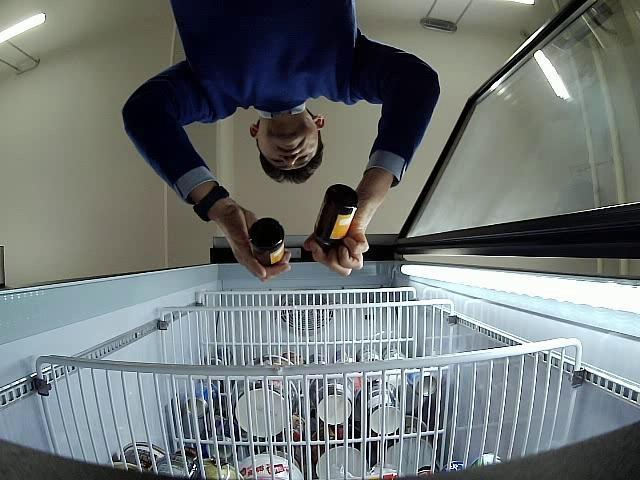17_vita500: (311, 183, 359, 253), (246, 217, 284, 268)
